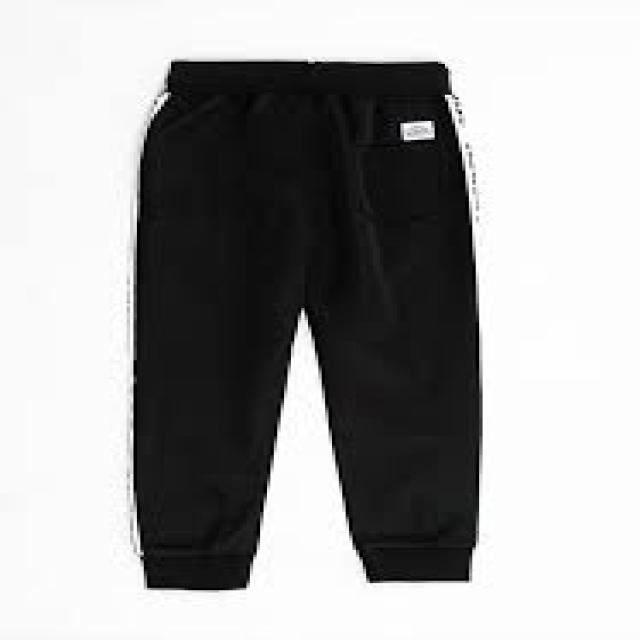pants: (133, 58, 486, 589)
